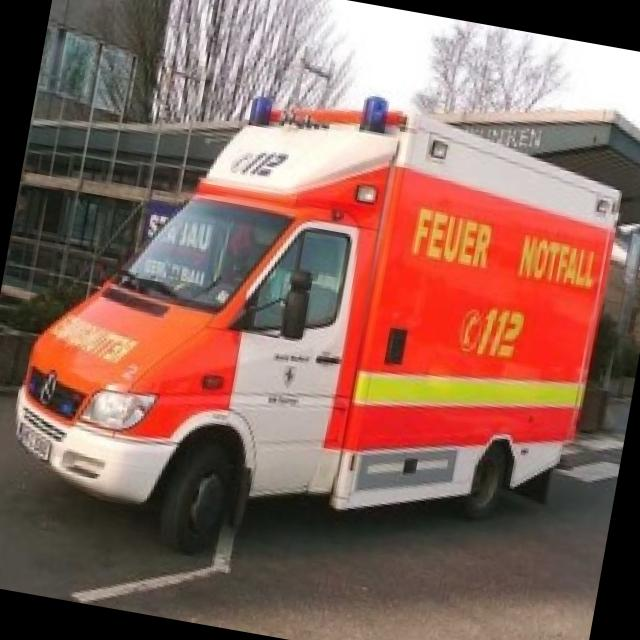ambulance: (22, 17, 640, 640)
